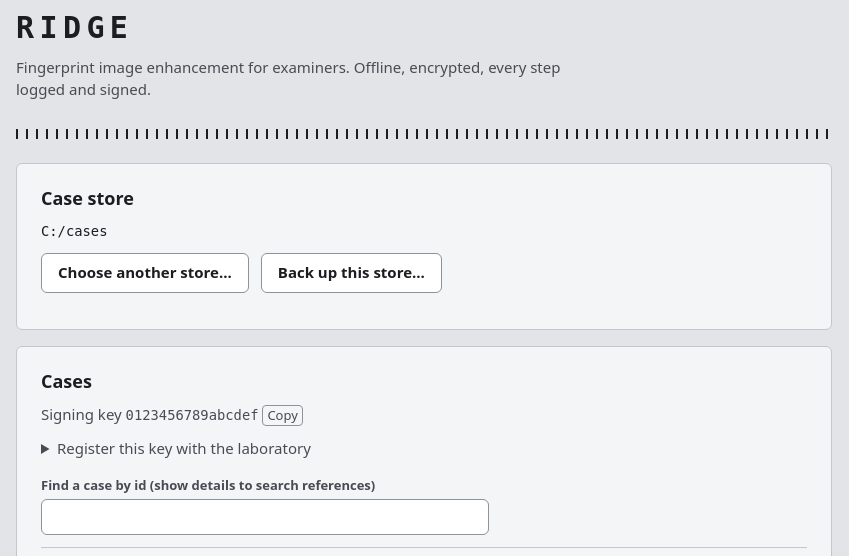
case details › backs up the store to a new folder
Click the button "Back up this store..." at (351, 273), box [261,253,442,293]
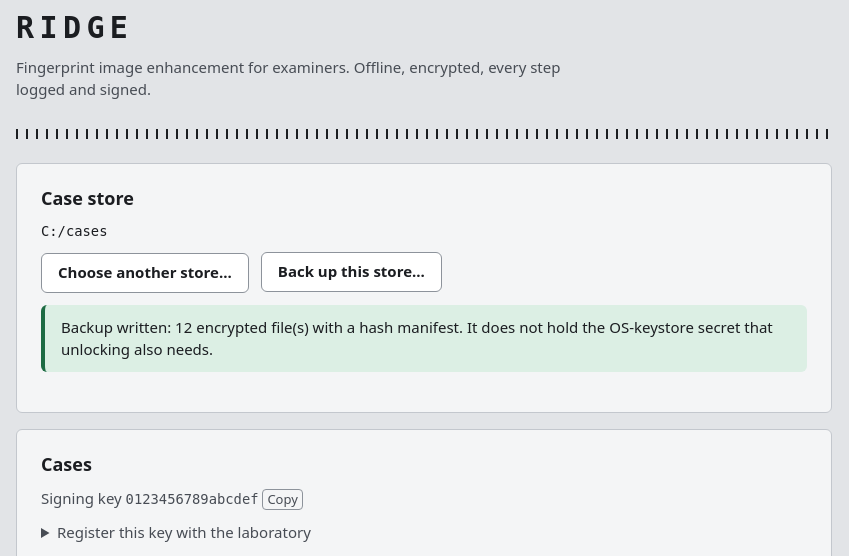
Check: the text "Backup written: 12 encrypted file(s)" is shown, box [61,317,773,359]
